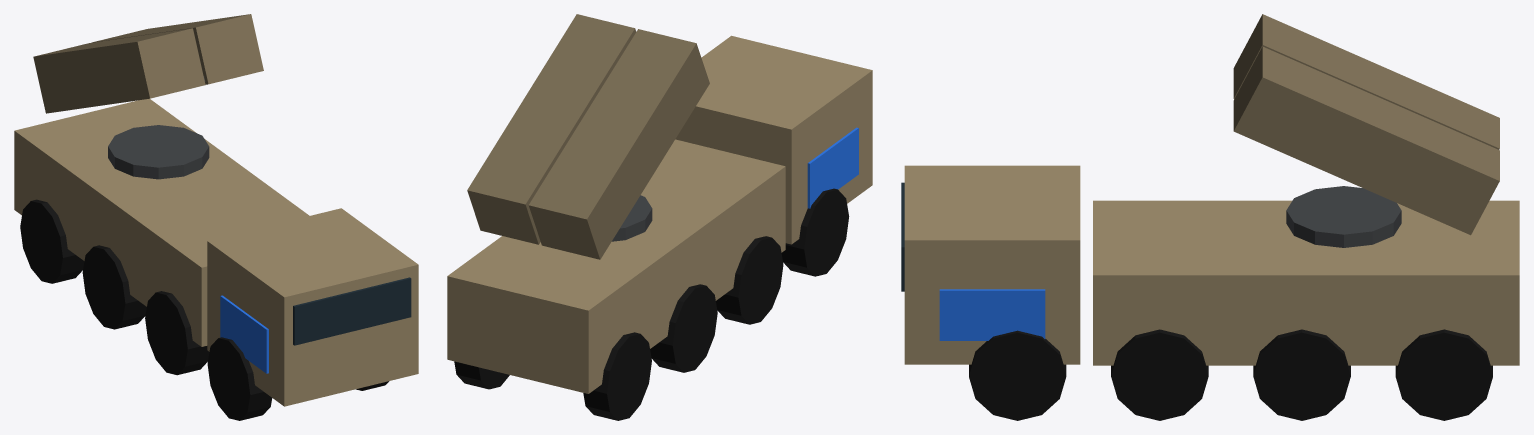
File: ae_rocket_artillery.glb
3 views of the same model, side by side, from view 1: azimuth 30°, elevation 25°; view 2: azimuth 150°, elevation 25°; view 3: azimuth 270°, elevation 25° (orthographic). The views are drawn at different scales.
Visible parts, largest first — view 1: body, cab, pod_0, windshield, turret, pod_1, wheel_l1, wheel_l3, wheel_l2, wheel_l0, team_door_l; view 2: body, pod_0, cab, pod_1, wheel_l3, wheel_l2, wheel_l1, wheel_l0, team_door_l, turret, wheel_r3; view 3: body, cab, pod_1, pod_0, wheel_r2, wheel_r1, wheel_r3, wheel_r0, turret, team_door_r.
Boxes of the visible parts, bbox=[...] form: body: bbox=[14, 98, 309, 346]; cab: bbox=[207, 208, 418, 406]; pod_0: bbox=[33, 28, 205, 113]; windshield: bbox=[293, 277, 411, 345]; turret: bbox=[108, 125, 209, 179]; pod_1: bbox=[92, 14, 263, 84]; wheel_l1: bbox=[145, 291, 209, 375]; wheel_l3: bbox=[20, 199, 84, 283]; wheel_l2: bbox=[82, 245, 146, 329]; wheel_l0: bbox=[207, 337, 272, 420]; team_door_l: bbox=[220, 295, 268, 373]; body: bbox=[447, 139, 785, 393]; pod_0: bbox=[528, 29, 709, 259]; cab: bbox=[675, 35, 872, 244]; pod_1: bbox=[467, 14, 636, 244]; wheel_l3: bbox=[583, 332, 651, 420]; wheel_l2: bbox=[650, 284, 717, 372]; wheel_l1: bbox=[716, 236, 783, 324]; wheel_l0: bbox=[781, 188, 849, 276]; team_door_l: bbox=[807, 127, 858, 208]; turret: bbox=[612, 195, 652, 241]; wheel_r3: bbox=[454, 361, 509, 389]; body: bbox=[1093, 200, 1519, 365]; cab: bbox=[904, 165, 1080, 364]; pod_1: bbox=[1233, 46, 1499, 235]; pod_0: bbox=[1233, 14, 1499, 149]; wheel_r2: bbox=[1253, 329, 1350, 420]; wheel_r1: bbox=[1111, 329, 1208, 420]; wheel_r3: bbox=[1395, 329, 1492, 420]; wheel_r0: bbox=[969, 330, 1066, 420]; turret: bbox=[1286, 186, 1401, 247]; team_door_r: bbox=[939, 289, 1045, 340].
Bounding box in the file's own units: 2.6 × 5 × 8.38.
